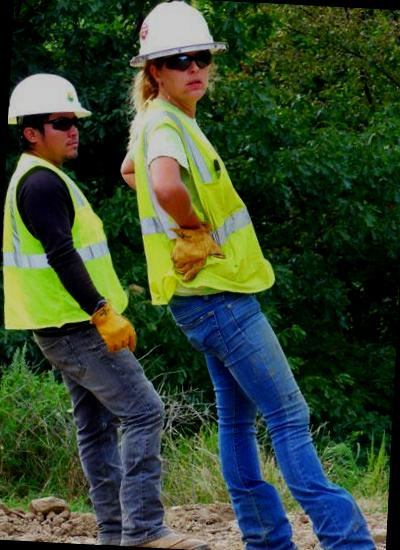helmet: (124, 0, 229, 73), (6, 67, 92, 143)
person: (100, 0, 291, 524), (0, 68, 118, 538)
